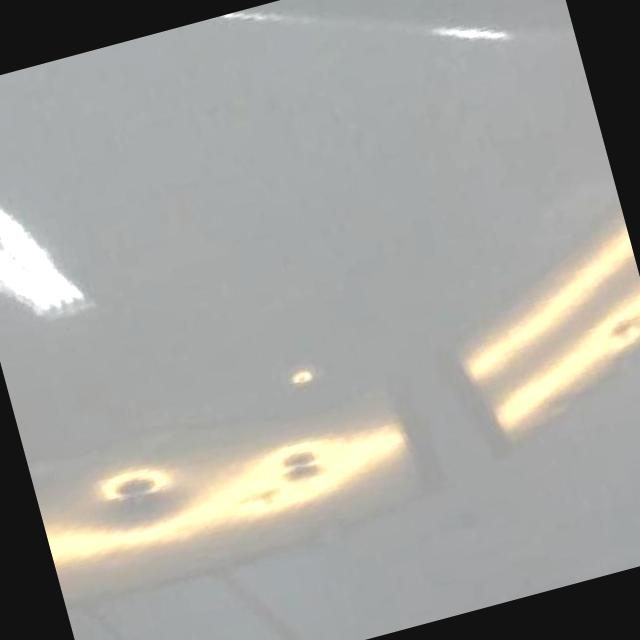dent: (270, 438, 332, 496), (101, 465, 172, 512), (235, 486, 281, 515), (607, 316, 640, 345), (287, 366, 314, 390)
